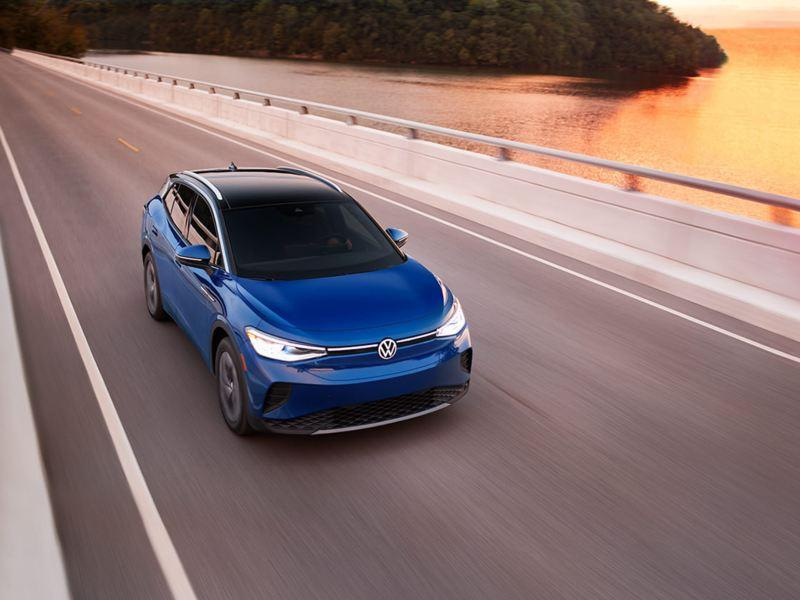car: (87, 136, 529, 473)
